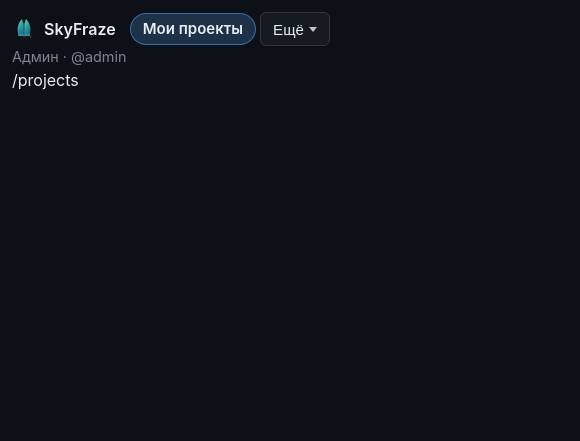
Test: Header — навигация на узком экране › на 320 px язык переключается пунктом меню
Click the button with aria-label "Ещё разделы": {"x": 295, "y": 29} [260,12,330,46]
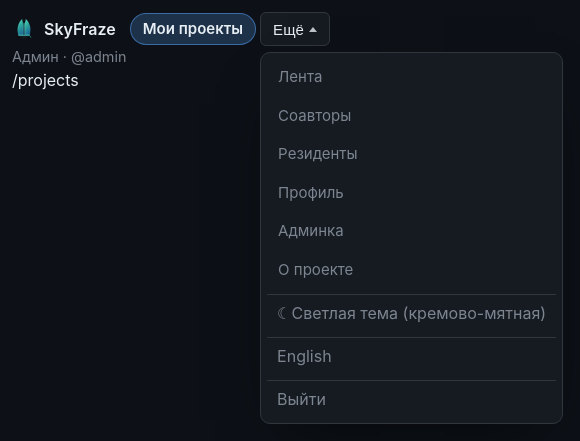
Click the menu item "English": {"x": 304, "y": 356} [267,337,556,374]
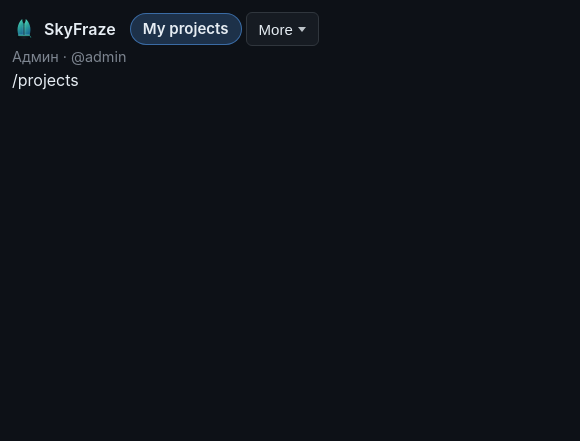
Now the menu is gone
Click the button with aria-label "More sections": {"x": 282, "y": 29} [246,12,319,46]
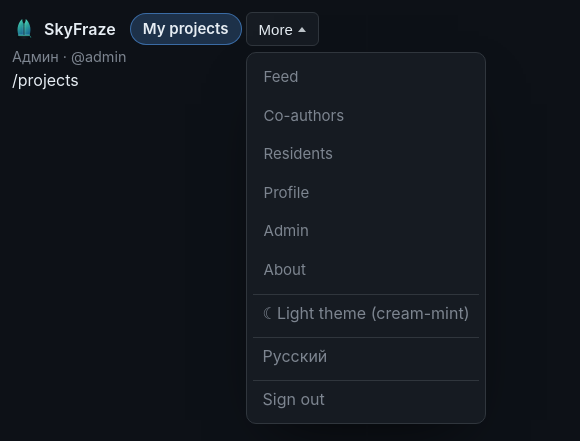
Now the menu item "Residents" is shown, box [264,144,333,163]
Now the menu item "Русский" is shown, box [252,337,480,374]
